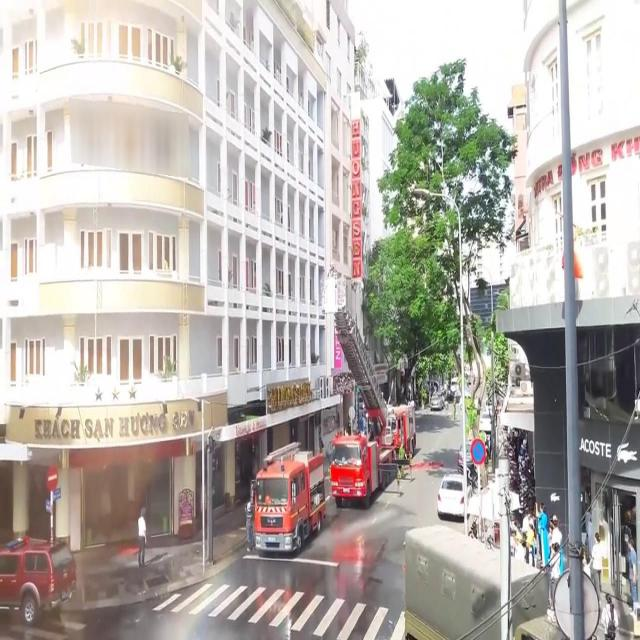car: (0, 531, 76, 621), (437, 476, 473, 522)
truck: (406, 526, 575, 640), (253, 439, 325, 553), (331, 430, 393, 505), (383, 400, 415, 460)
